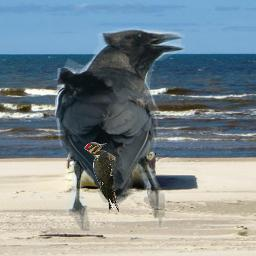Crow: (55, 23, 185, 231)
Woodpecker: (84, 142, 119, 213)
